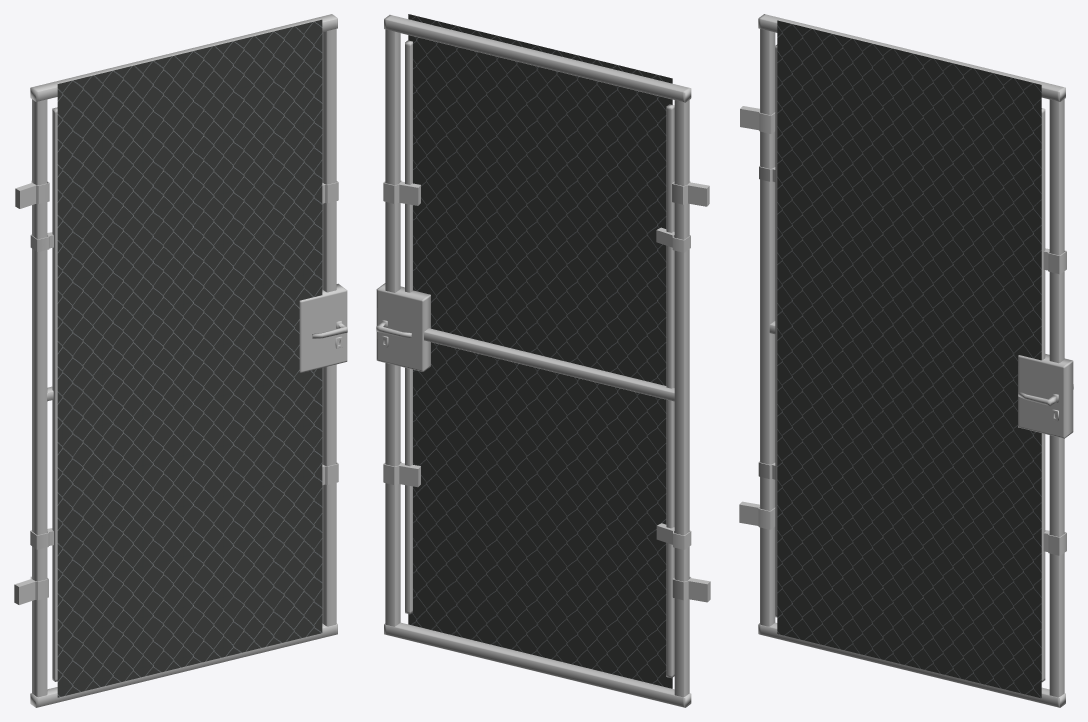
File: Door_Metal_Chainlink.FBX
3 renders of one model, left to right at view 1: azimuth 30°, elevation 25°; view 2: azimuth 150°, elevation 25°; view 3: azimuth 330°, elevation 25°, orthographic.
Visible parts, largest first — view 1: Door_Metal_Chainlink; view 2: Door_Metal_Chainlink; view 3: Door_Metal_Chainlink.
Boxes of the visible parts, x1,y1,x2,y2 form: Door_Metal_Chainlink: [14, 14, 347, 707]; Door_Metal_Chainlink: [376, 14, 710, 707]; Door_Metal_Chainlink: [739, 14, 1073, 707].
Size of the model in its own units: 113 by 205 by 13.83.
